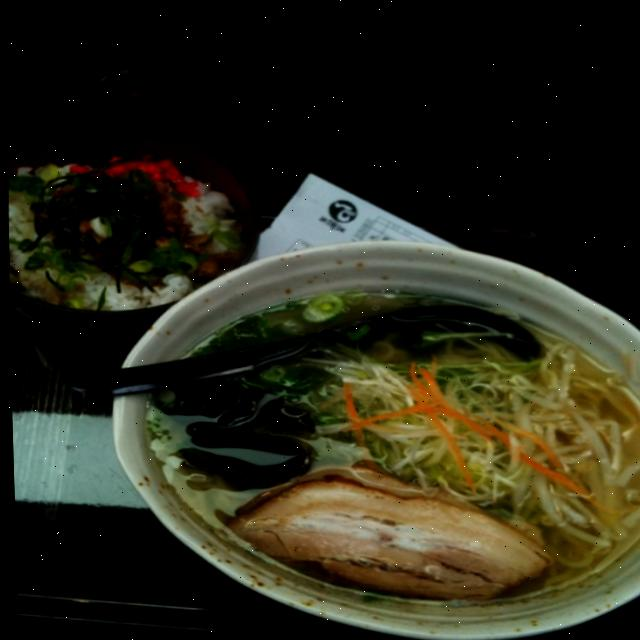面条主食: (100, 217, 640, 640)
